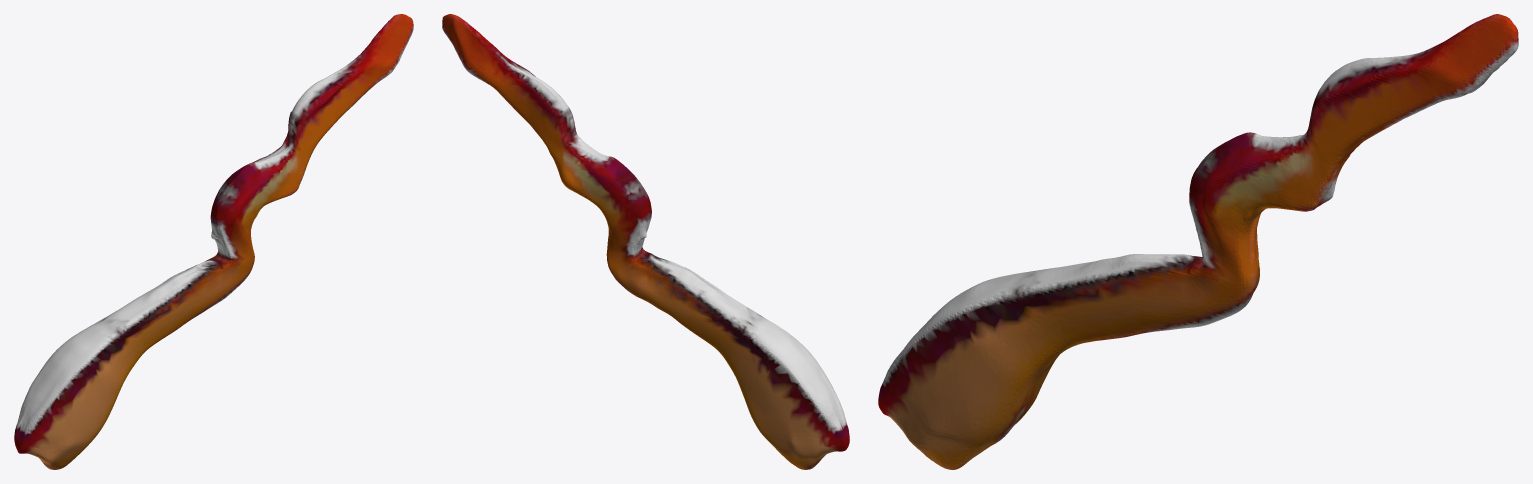
The model's file is wand.glb.
The picture shows the model from 3 angles, left to right: view 1: azimuth 30°, elevation 25°; view 2: azimuth 150°, elevation 25°; view 3: azimuth 330°, elevation 25°; orthographic projection. The views are drawn at different scales.
Visible parts, largest first — view 1: geometry_0; view 2: geometry_0; view 3: geometry_0.
Part boxes in pixels (<box>): geometry_0: <box>14,14,413,469</box>; geometry_0: <box>442,14,849,469</box>; geometry_0: <box>878,14,1518,469</box>.
Bounding box in the file's own units: 0.5625 × 0.496 × 0.059.
